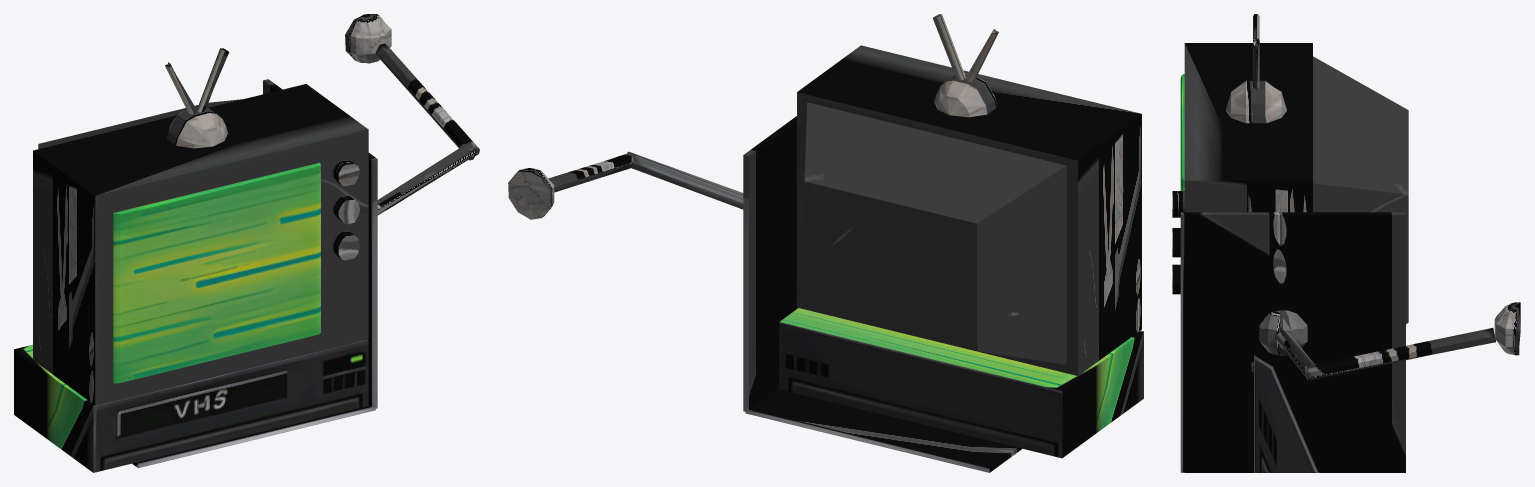
3 renders of one model, left to right at view 1: azimuth 30°, elevation 25°; view 2: azimuth 150°, elevation 25°; view 3: azimuth 270°, elevation 25°, orthographic. The views are drawn at different scales.
Visible parts, largest first — view 1: TV; view 2: TV; view 3: TV.
Part boxes in pixels (x1,y1,x2,y2): TV: (14, 14, 479, 472); TV: (508, 14, 1143, 472); TV: (1172, 14, 1520, 472).
Bounding box in the file's own units: 174 × 132 × 111.
Materials: 1 (1 with a texture image).
